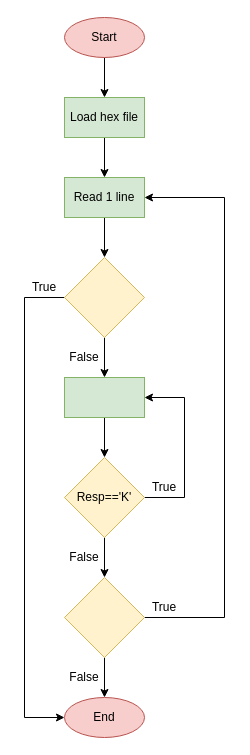
Some shapes in this 250 by 755 pixel diagram are drawn without their labels. The centre of each missing label's shape, as x and y in pixels:
EOF?: pixel 104 297
Resp=='A': pixel 104 617
Send to MCU: pixel 104 397
